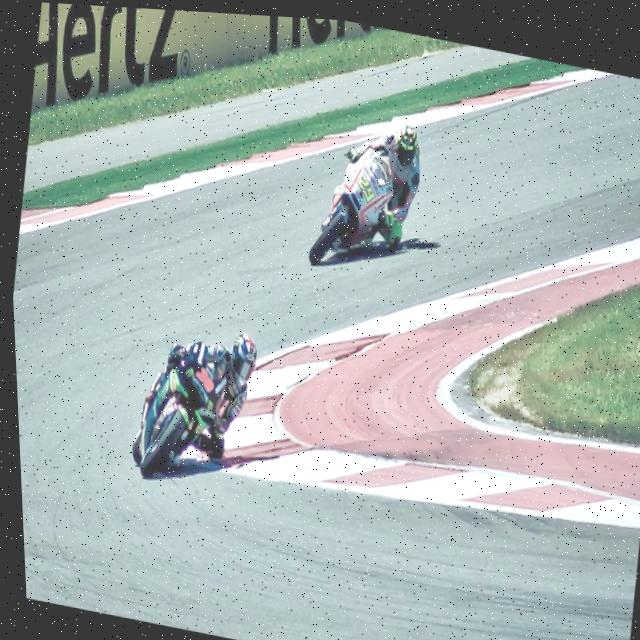motorcycle: (115, 330, 243, 498), (299, 123, 412, 282)
